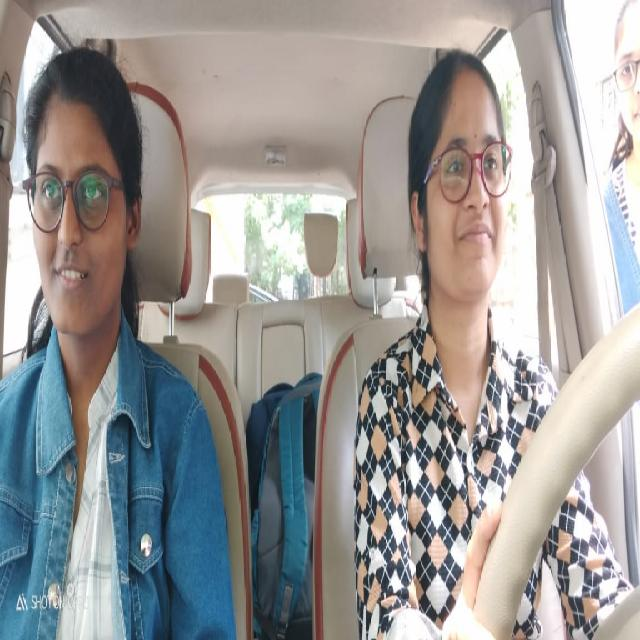person: (20, 69, 143, 335), (410, 53, 510, 297)
